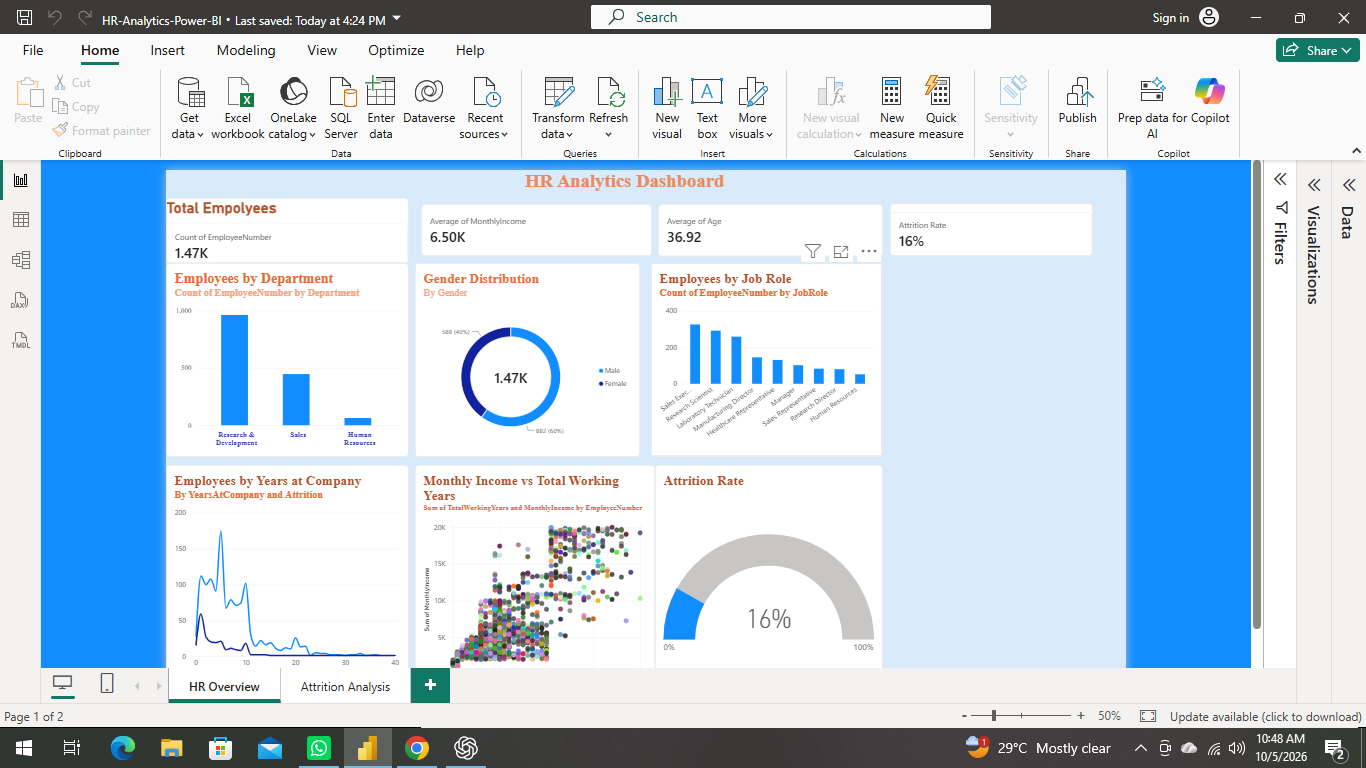

Layout of this report page (visuals, bound fields, positions):
{"tool":"powerbi","page":{"name":"HR Overview","canvas":[1920,1080],"ordinal":0},"visuals":[{"type":"cardVisual","title":"Total Empolyees","fields":{"Data":["CountNonNull(WA_Fn-UseC_-HR-Employee-Attrition.EmployeeNumber)"]},"box":[0,55,485,130],"z":0},{"type":"cardVisual","fields":{"Data":["Avg(WA_Fn-UseC_-HR-Employee-Attrition.MonthlyIncome)"]},"box":[510,68,462,104],"z":1},{"type":"cardVisual","fields":{"Data":["Avg(WA_Fn-UseC_-HR-Employee-Attrition.Age)"]},"box":[984.8,67.8,450,105],"z":2},{"type":"cardVisual","fields":{"Data":["WA_Fn-UseC_-HR-Employee-Attrition.Attrition Rate"]},"box":[1448,66,405,105],"z":3},{"type":"clusteredColumnChart","title":"Employees by Department","fields":{"Category":["WA_Fn-UseC_-HR-Employee-Attrition.Department"],"Y":["CountNonNull(WA_Fn-UseC_-HR-Employee-Attrition.EmployeeNumber)"]},"box":[0,185,485,387.5],"z":4},{"type":"donutChart","title":"Gender Distribution","fields":{"Category":["WA_Fn-UseC_-HR-Employee-Attrition.Gender"],"Y":["CountNonNull(WA_Fn-UseC_-HR-Employee-Attrition.EmployeeNumber)"]},"box":[497.5,185,450,387.5],"z":5},{"type":"columnChart","title":"Employees by Job Role","fields":{"Category":["WA_Fn-UseC_-HR-Employee-Attrition.JobRole"],"Y":["CountNonNull(WA_Fn-UseC_-HR-Employee-Attrition.EmployeeNumber)"]},"box":[970,185,462.5,387.5],"z":6},{"type":"lineChart","title":"Employees by Years at Company","fields":{"Category":["WA_Fn-UseC_-HR-Employee-Attrition.YearsAtCompany"],"Series":["WA_Fn-UseC_-HR-Employee-Attrition.Attrition"],"Y":["CountNonNull(WA_Fn-UseC_-HR-Employee-Attrition.EmployeeNumber)"]},"box":[0,590,485,457.5],"z":7},{"type":"scatterChart","title":"Monthly Income vs Total Working Years","fields":{"Series":["WA_Fn-UseC_-HR-Employee-Attrition.EmployeeNumber"],"X":["Sum(WA_Fn-UseC_-HR-Employee-Attrition.TotalWorkingYears)"],"Y":["Sum(WA_Fn-UseC_-HR-Employee-Attrition.MonthlyIncome)"]},"box":[497.5,590,480,475],"z":8},{"type":"gauge","fields":{"Y":["WA_Fn-UseC_-HR-Employee-Attrition.Attrition Rate"]},"box":[977.5,590,455,475],"z":9},{"type":"textbox","box":[718.3,0,867.4,54.2],"z":10},{"type":"textbox","box":[1433,280,403,293],"z":11}]}

Visuals, with their boxes on the page's 1920x1080 design canvas (x1, y1, x2, y2). These are canvas units, not pixel positions in the 1366x768 screenshot, which may show the page scaled, cropped or inside an application window:
"Total Empolyees" cardVisual: (left=0, top=55, right=485, bottom=185)
cardVisual - Avg(WA_Fn-UseC_-HR-Employee-Attrition.MonthlyIncome): (left=510, top=68, right=972, bottom=172)
cardVisual - Avg(WA_Fn-UseC_-HR-Employee-Attrition.Age): (left=985, top=68, right=1435, bottom=173)
cardVisual - WA_Fn-UseC_-HR-Employee-Attrition.Attrition Rate: (left=1448, top=66, right=1853, bottom=171)
"Employees by Department" clusteredColumnChart: (left=0, top=185, right=485, bottom=572)
"Gender Distribution" donutChart: (left=498, top=185, right=948, bottom=572)
"Employees by Job Role" columnChart: (left=970, top=185, right=1432, bottom=572)
"Employees by Years at Company" lineChart: (left=0, top=590, right=485, bottom=1048)
"Monthly Income vs Total Working Years" scatterChart: (left=498, top=590, right=978, bottom=1065)
gauge - WA_Fn-UseC_-HR-Employee-Attrition.Attrition Rate: (left=978, top=590, right=1432, bottom=1065)
textbox: (left=718, top=0, right=1586, bottom=54)
textbox: (left=1433, top=280, right=1836, bottom=573)
